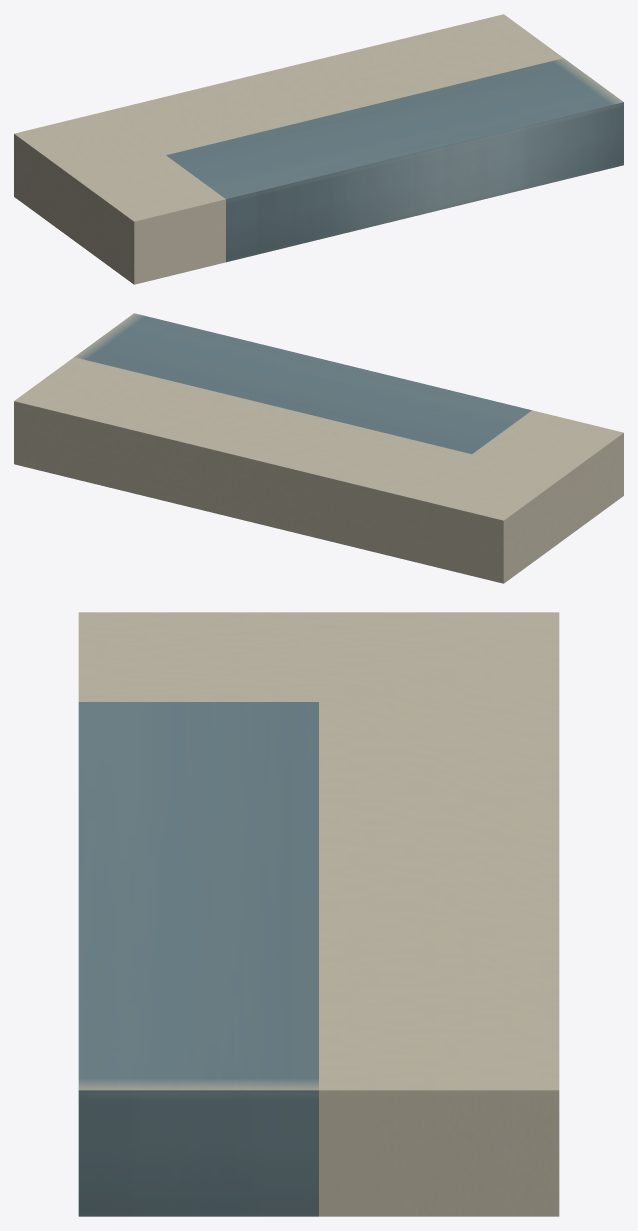
File: set_pillar_01_19_base.fbx
3 views of the same model, one above another, from view 1: azimuth 30°, elevation 25°; view 2: azimuth 150°, elevation 25°; view 3: azimuth 270°, elevation 25° (orthographic). The views are drawn at different scales.
Visible parts, largest first — view 1: set_pillar_01_19_base; view 2: set_pillar_01_19_base; view 3: set_pillar_01_19_base.
Part boxes in pixels (x1,y1,x2,y2): set_pillar_01_19_base: (14, 14, 623, 284); set_pillar_01_19_base: (14, 313, 623, 583); set_pillar_01_19_base: (78, 612, 559, 1216).
Bounding box in the file's own units: 160 × 19.7 × 68.
